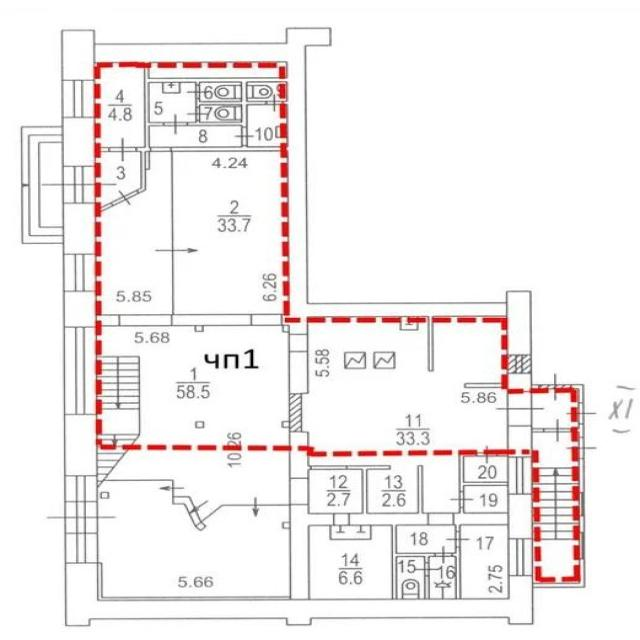Bathrooms: (150, 83, 195, 121), (397, 557, 424, 599), (430, 558, 456, 599), (247, 82, 286, 101), (200, 83, 241, 101), (200, 106, 241, 121)
Corridors: (303, 316, 508, 513), (95, 325, 289, 480), (309, 470, 361, 512), (367, 470, 417, 511), (39, 144, 62, 226), (533, 389, 577, 427), (150, 127, 242, 145), (396, 526, 455, 552), (248, 106, 286, 145), (533, 432, 578, 464), (465, 486, 508, 513), (466, 457, 506, 481)
Doors: (41, 166, 119, 204), (46, 500, 117, 534), (494, 391, 546, 426), (538, 373, 573, 401), (543, 416, 574, 442), (566, 437, 598, 460), (108, 138, 138, 162), (566, 402, 596, 425), (427, 371, 465, 388), (110, 189, 141, 207), (119, 315, 172, 325), (290, 477, 309, 504), (164, 114, 188, 135), (449, 490, 477, 508), (474, 444, 498, 464), (233, 126, 257, 145), (290, 394, 302, 431), (444, 531, 471, 547), (433, 544, 453, 564), (186, 82, 210, 98), (413, 562, 439, 576), (267, 93, 286, 112), (185, 107, 210, 121), (289, 334, 308, 350), (391, 464, 419, 470), (312, 466, 346, 469)
LBwalls: (60, 26, 531, 356), (64, 562, 534, 627), (289, 504, 509, 600), (63, 414, 97, 475), (62, 203, 95, 253), (61, 118, 95, 165), (171, 314, 283, 325), (63, 291, 94, 327), (288, 432, 310, 478), (509, 495, 531, 538), (289, 350, 309, 394), (509, 425, 531, 457), (508, 373, 530, 392), (96, 315, 120, 326), (276, 126, 287, 138), (196, 421, 205, 429), (101, 491, 110, 499), (283, 521, 292, 529), (195, 325, 203, 333), (146, 152, 149, 171), (283, 421, 289, 429)
Offices: (95, 152, 289, 315), (309, 526, 391, 599), (434, 316, 507, 382), (94, 63, 143, 146), (461, 524, 508, 598), (95, 152, 140, 211)
Stairs: (97, 356, 290, 597), (533, 465, 580, 583)
Walls: (136, 62, 289, 193), (98, 563, 290, 601), (534, 458, 585, 588), (392, 525, 435, 599), (347, 465, 392, 514), (459, 453, 508, 492), (172, 495, 206, 531), (451, 546, 461, 599), (428, 316, 433, 372), (465, 382, 506, 388), (95, 203, 113, 215), (572, 384, 584, 402), (418, 465, 422, 513), (573, 424, 585, 436), (424, 576, 429, 598), (95, 147, 109, 152), (530, 384, 540, 389), (455, 524, 461, 532), (497, 453, 508, 457), (459, 507, 464, 513)
Windows: (21, 126, 63, 244), (63, 326, 97, 415), (61, 80, 94, 118), (63, 254, 96, 292), (63, 166, 94, 203), (66, 533, 97, 564), (64, 475, 97, 502), (508, 539, 532, 576), (509, 457, 532, 495), (508, 355, 531, 373)
